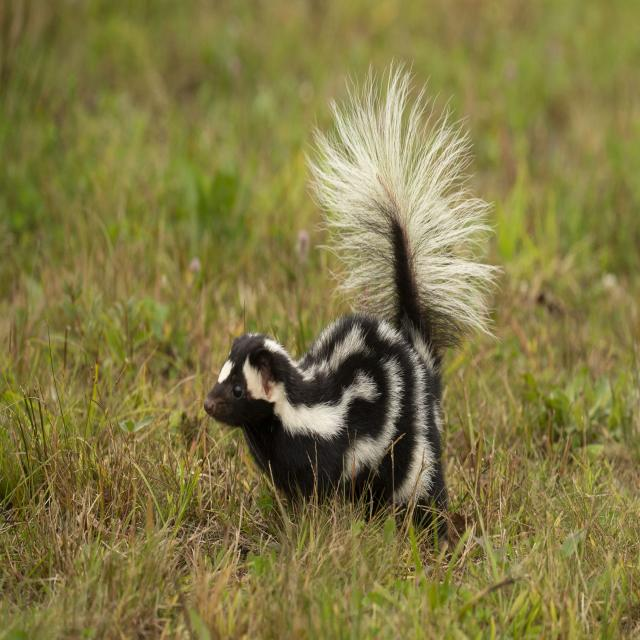Skunk: (199, 62, 522, 556)
